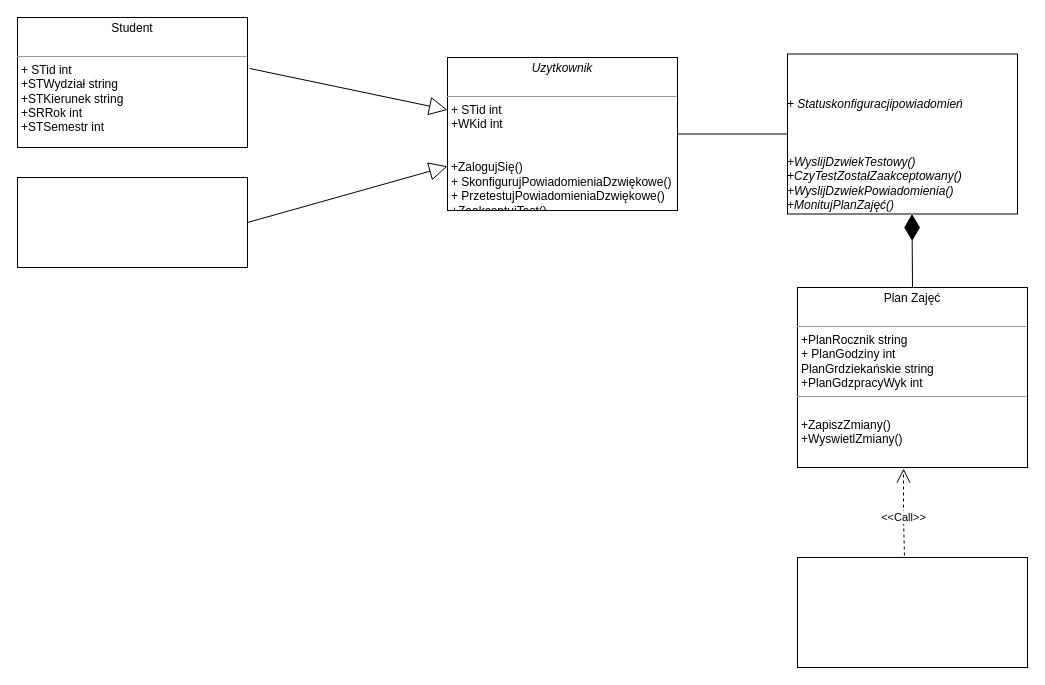
Image size: 1045x685. Some labels were removed from this diagram. The shapes that lost their labels are listed below. From the top down, each one's centre as x and y in pixels, then its label:
At point (132, 222): "Wykładowca +WKid int +WKkatedra String +WKWydział string".
At point (912, 612): "Pracownik BOS + PRCzaszmian + PRCozostałozmienione() +Wprowadźzmiany()".
